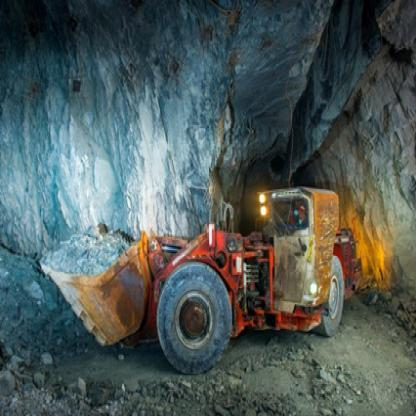bull_dozer/loader/grader: (19, 157, 373, 370)
